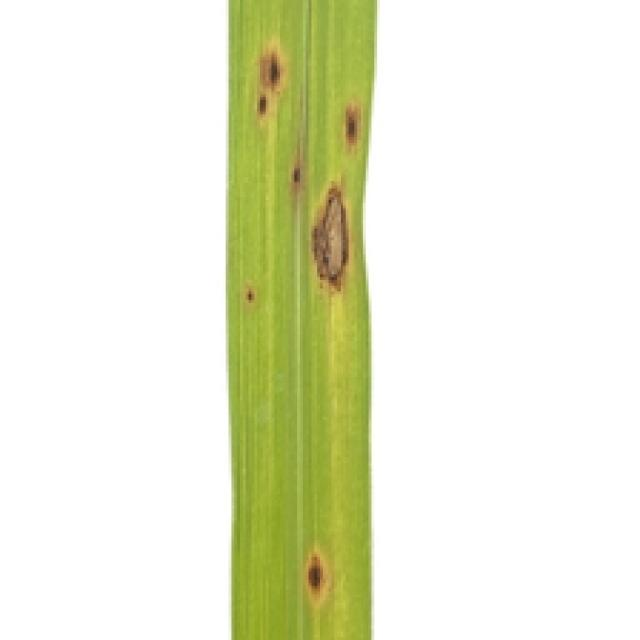Rice___Rice_Blast: (225, 0, 379, 637)
